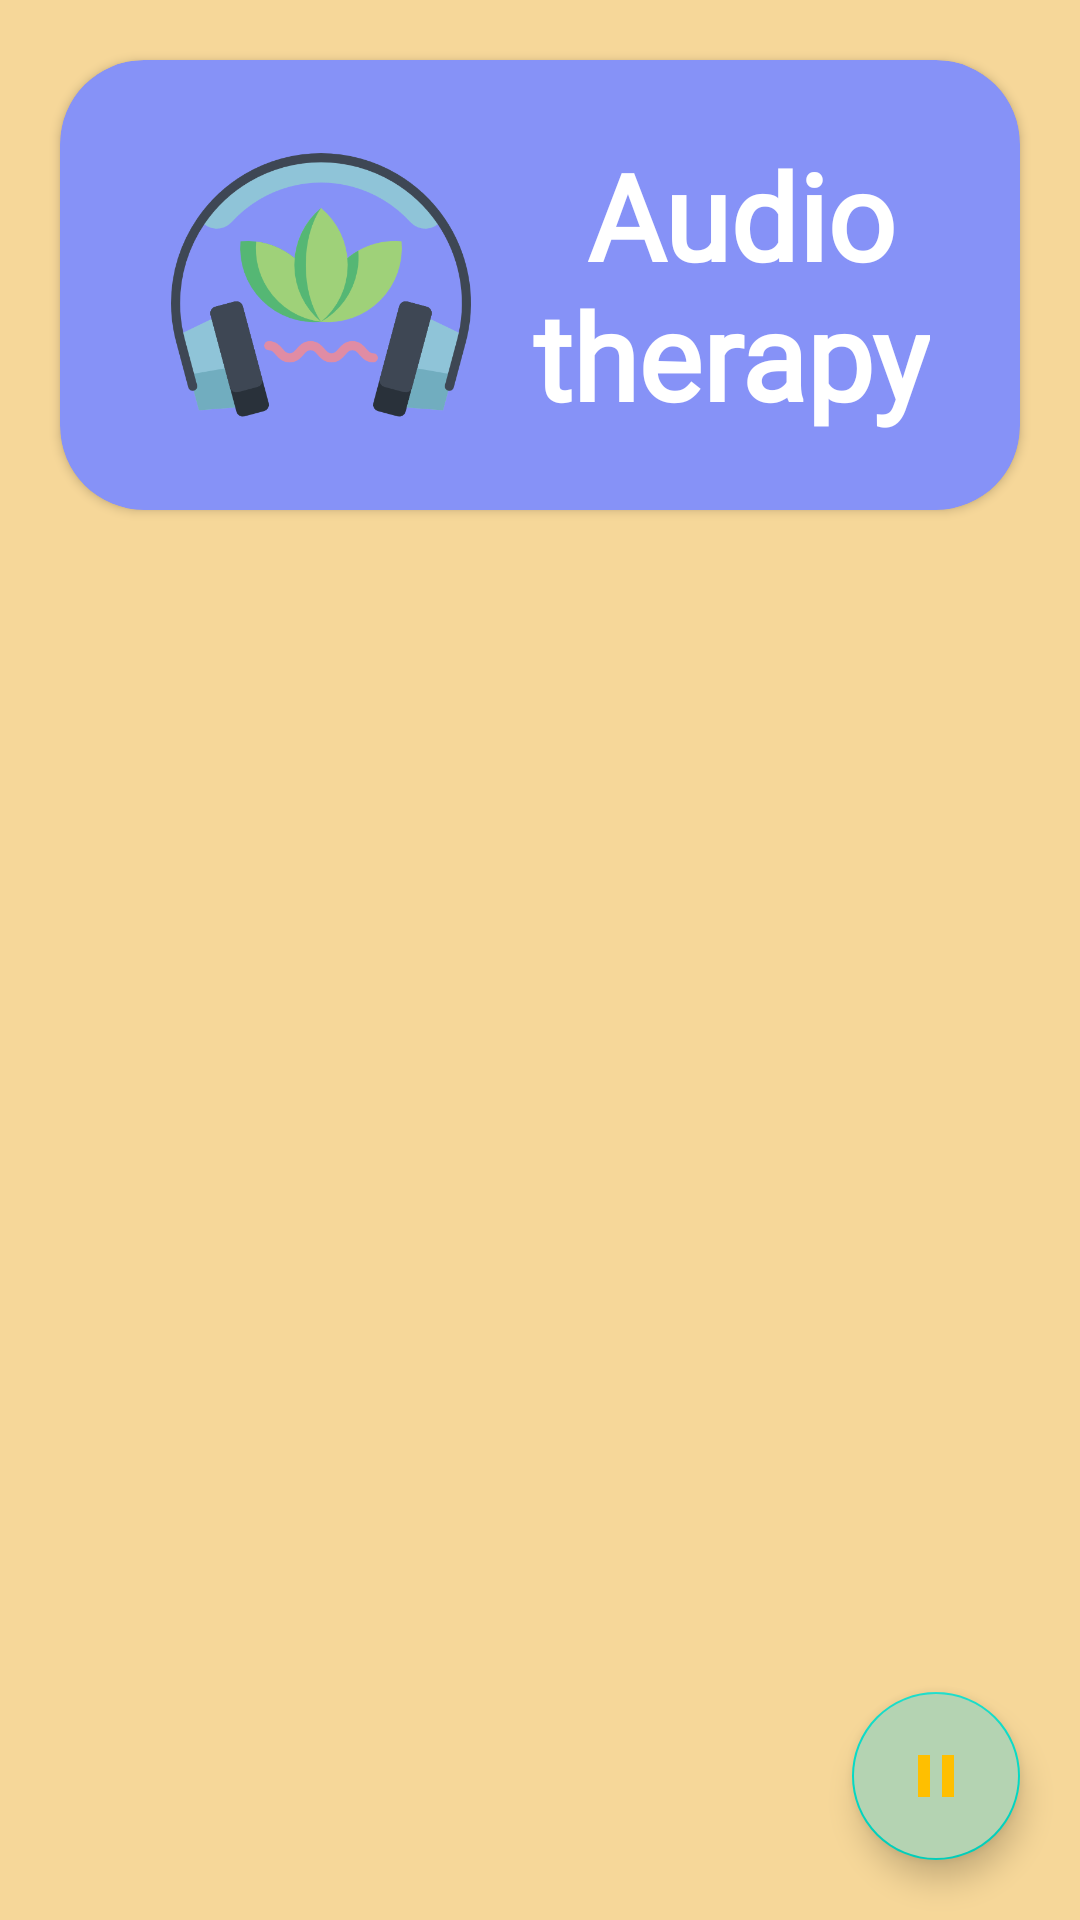

Icons on this 1080×1920 Android screen, each with the point to tap as (x=x, y=y):
musictherapy: (x=321, y=285)
pause: (x=936, y=1776)
